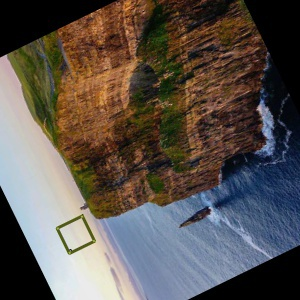square: (54, 213, 97, 255)
